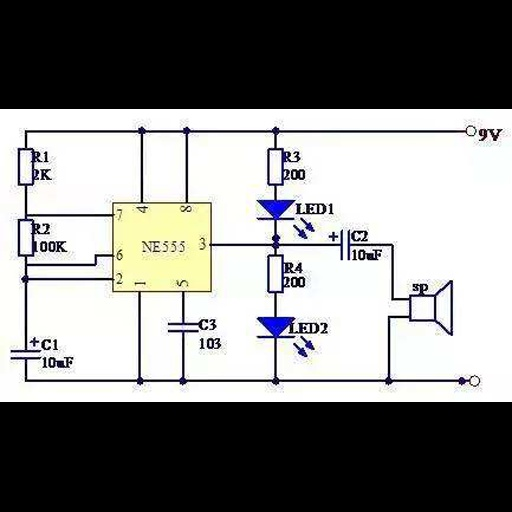capacitor: (161, 317, 199, 338)
firstled: (247, 197, 315, 239), (251, 316, 315, 359)
firstpolarcapacitor: (5, 337, 42, 364), (326, 227, 351, 264)
firstresistance: (12, 146, 36, 190), (262, 144, 284, 190), (262, 251, 284, 296), (12, 217, 35, 259)
loudspeaker: (404, 279, 459, 337)
